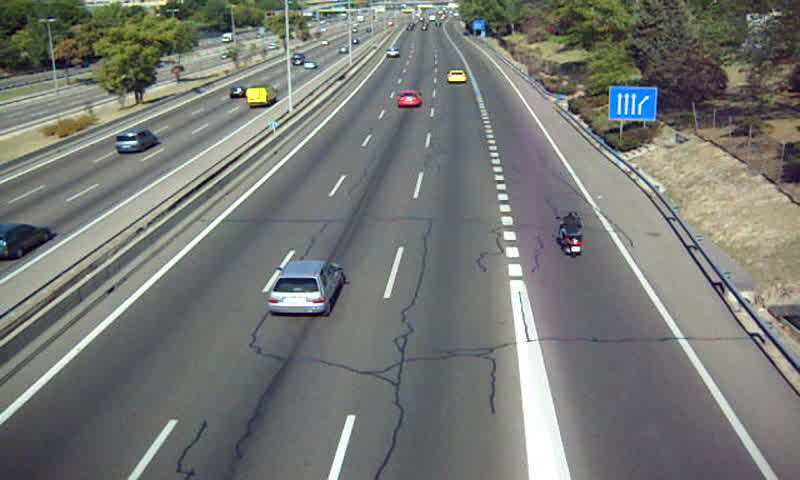car: (268, 256, 342, 313), (395, 88, 420, 107), (448, 70, 468, 84), (386, 48, 400, 59)
motorcycle: (557, 211, 584, 257)
